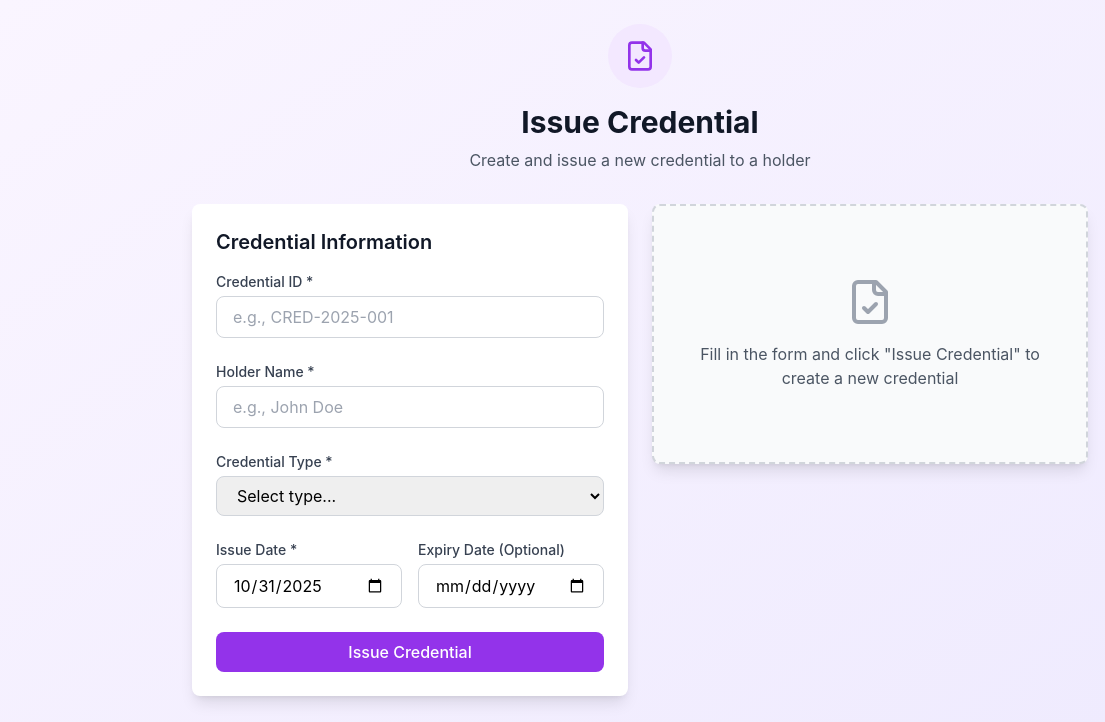
it: IssuancePage › issues credential successfully and shows success alert + details
This screenshot has width=1105, height=722.
In the field labelled "Credential ID *": (410, 317) [216, 296, 604, 338], type "CRED-1"
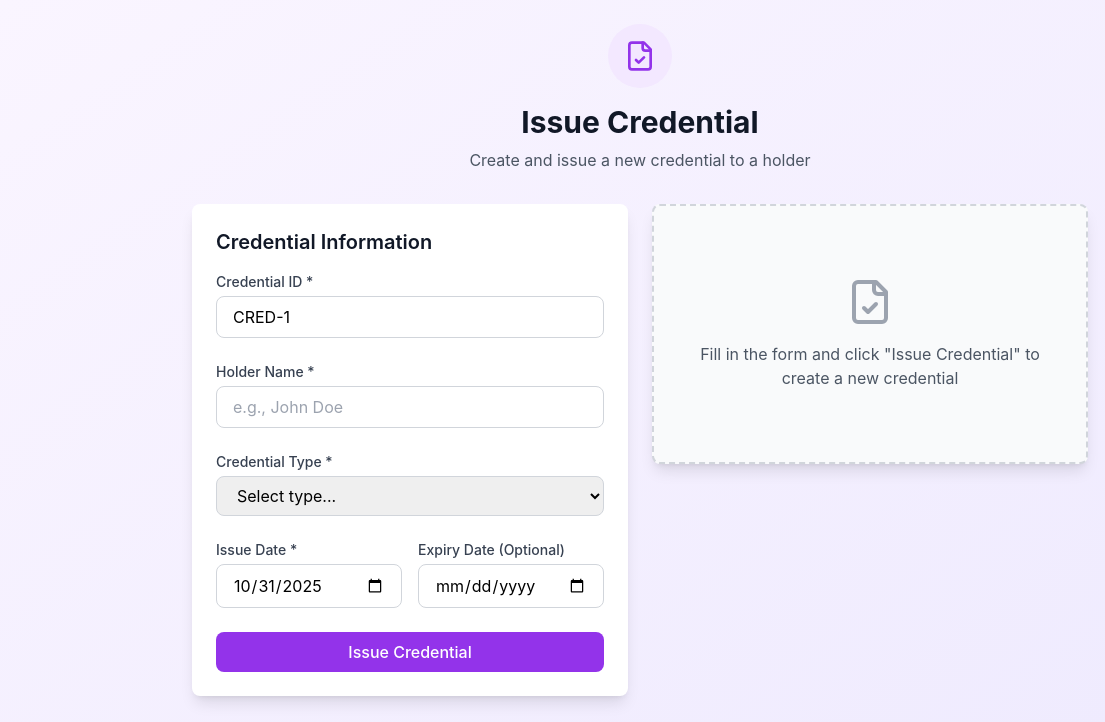
In the field labelled "Holder Name *": (410, 407) [216, 386, 604, 428], type "John Doe"
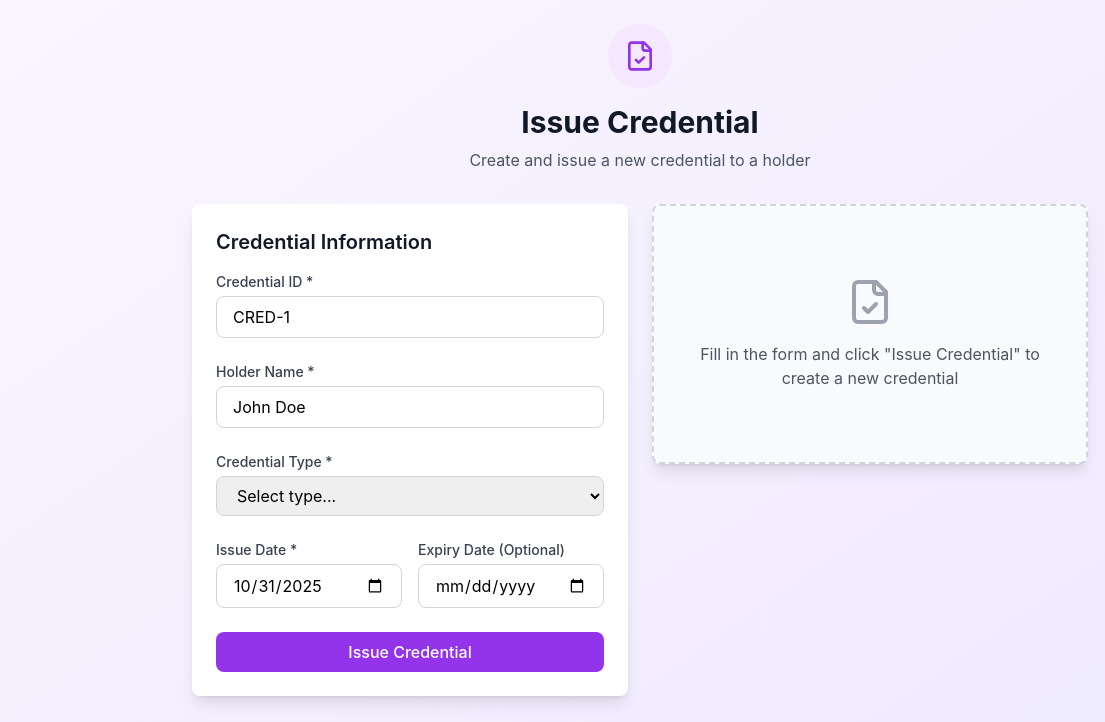
Select "Passport" in the dropdown labelled "Credential Type *": (410, 496) [216, 476, 604, 516]
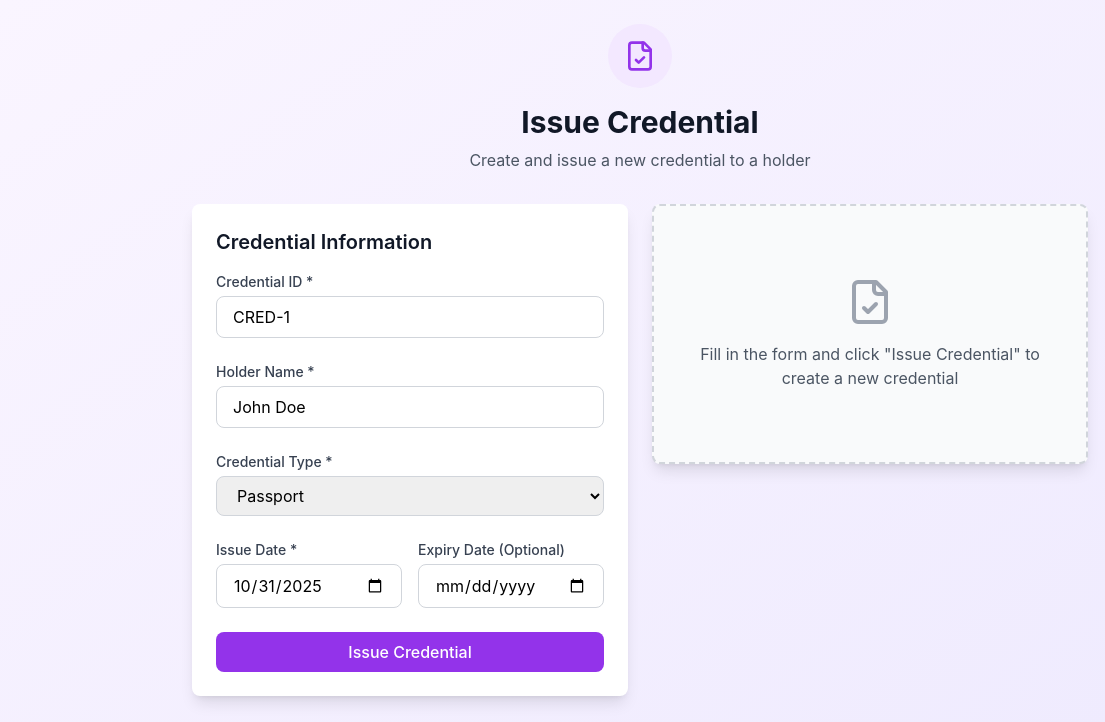
Click the button "Issue Credential": (410, 652) [216, 632, 604, 672]
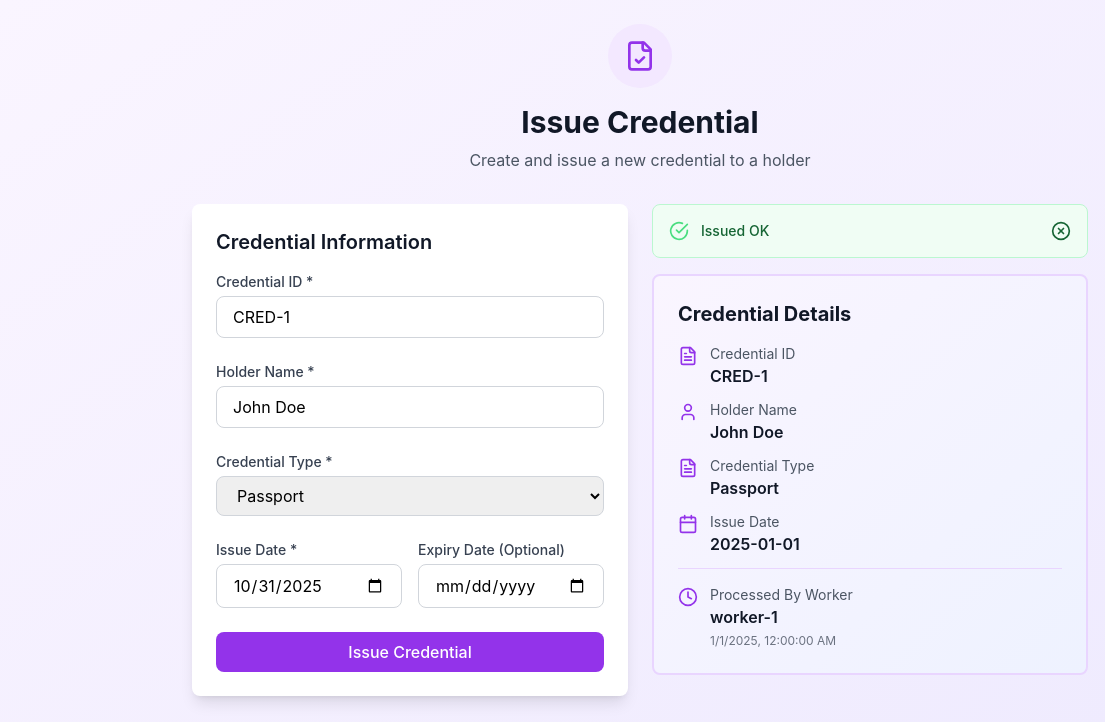
Now the text "Issued OK" is shown, box [701, 222, 769, 239]
Now the text "CRED-1" is shown, box [710, 366, 768, 386]
